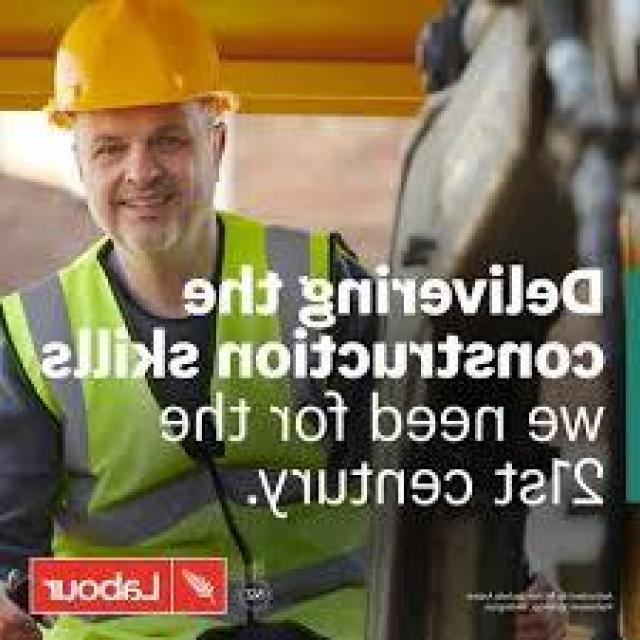reflective_jacket: (0, 219, 404, 637)
safety_helmet: (36, 2, 247, 131)
